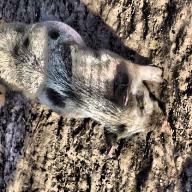boar: (0, 19, 168, 159)
